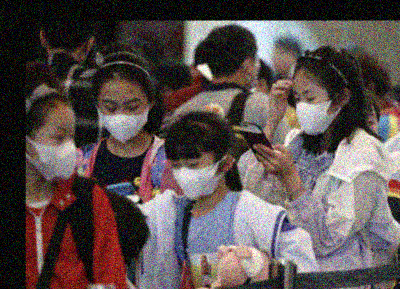with_mask: (168, 149, 224, 203), (95, 93, 150, 146), (30, 122, 76, 183), (292, 86, 343, 137)
